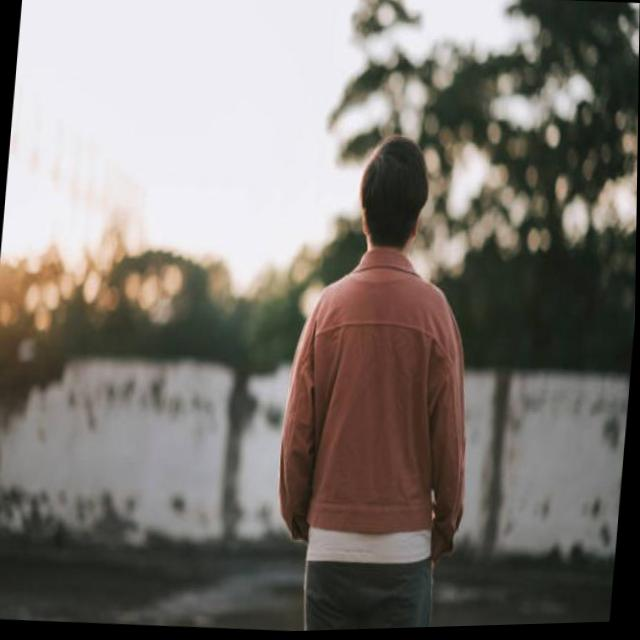no helmet: (336, 109, 438, 279)
